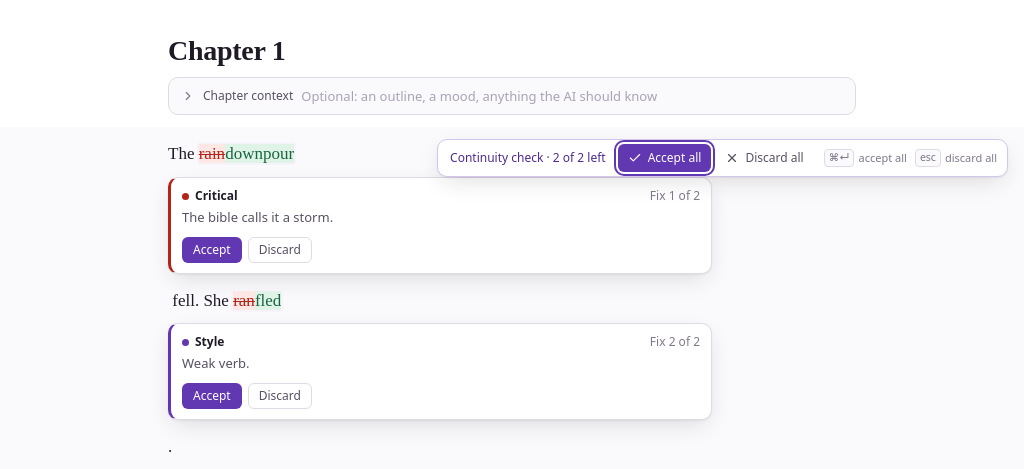
Test: ProposalLayer, suggestion sets › accepts a later fix correctly after an earlier one moved the text
The image size is (1024, 469).
// "rain" → "downpour" pushes everything after it four characters right.
Click the button with aria-label "Accept fix 1": click(212, 250) 182,237 -> 242,263
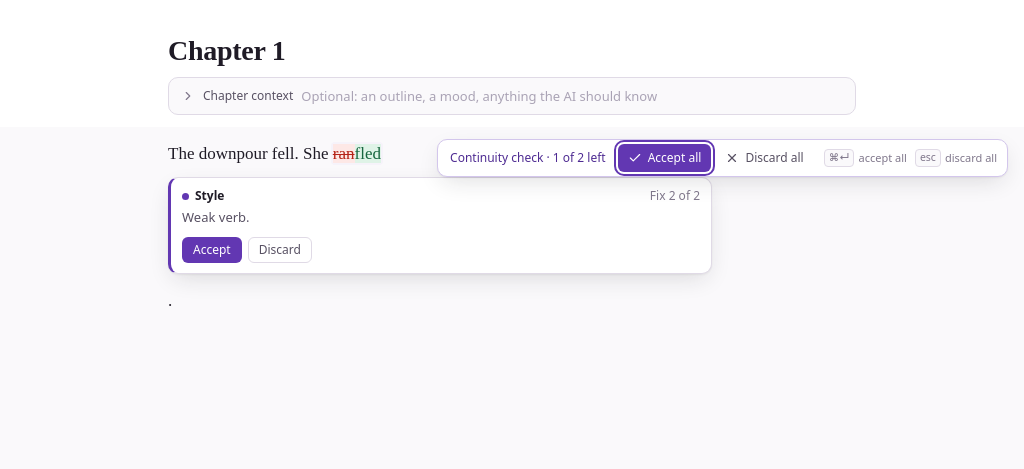
Click the button with aria-label "Accept fix 2": click(212, 250) 182,237 -> 242,263
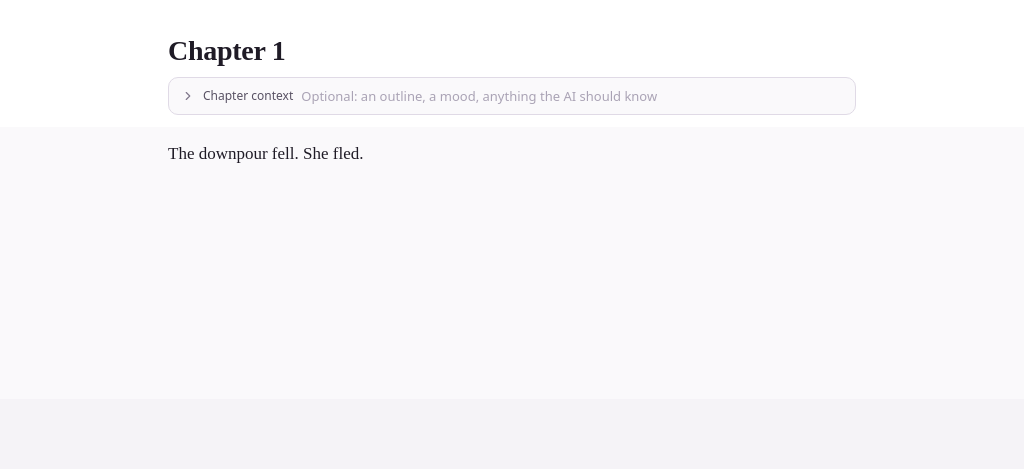
Result: the text "The downpour fell. She fled." is shown at 168,144 -> 364,163
